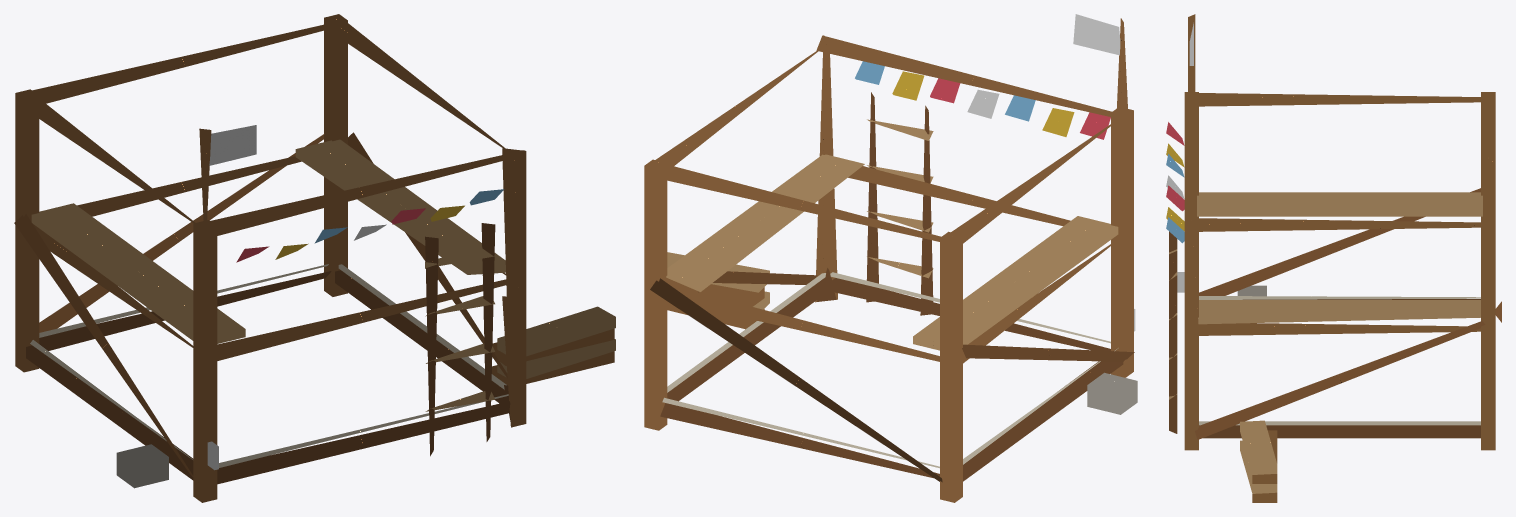
Rendered from rival-scaffold-blocky_lod1.glb.
The picture shows the model from 3 angles, left to right: view 1: azimuth 30°, elevation 25°; view 2: azimuth 150°, elevation 25°; view 3: azimuth 270°, elevation 25°; orthographic projection. The views are drawn at different scales.
Visible parts, largest first — view 1: stage-3, stage-2, stage-1, stage-0; view 2: stage-3, stage-2, stage-1, stage-0; view 3: stage-3, stage-2, stage-0, stage-1.
Boxes of the visible parts, bbox=[...] form: stage-3: bbox=[15, 18, 526, 502]; stage-2: bbox=[14, 14, 555, 484]; stage-1: bbox=[15, 241, 615, 487]; stage-0: bbox=[30, 264, 615, 488]; stage-3: bbox=[650, 14, 1134, 482]; stage-2: bbox=[644, 42, 1134, 502]; stage-1: bbox=[660, 192, 1137, 502]; stage-0: bbox=[662, 252, 1135, 468]; stage-3: bbox=[1166, 14, 1501, 450]; stage-2: bbox=[1169, 92, 1499, 493]; stage-0: bbox=[1177, 272, 1480, 502]; stage-1: bbox=[1237, 285, 1480, 492].
Size of the model in its own units: 2.26 by 1.62 by 1.61.
